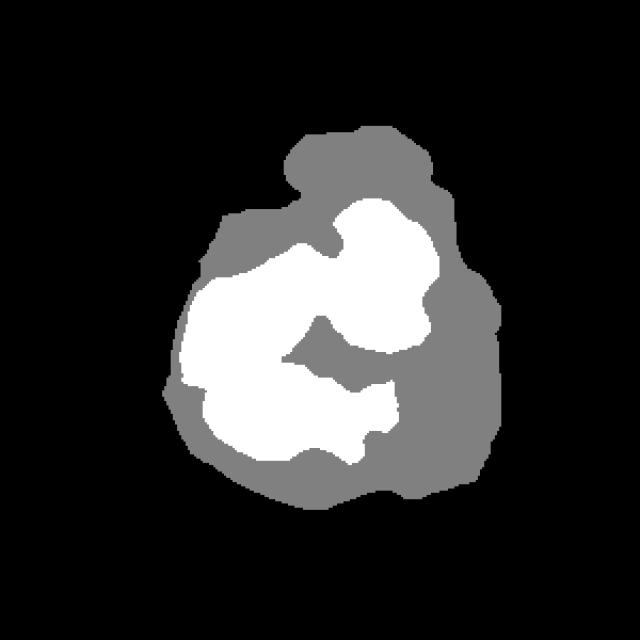WBC: (160, 113, 516, 514)
